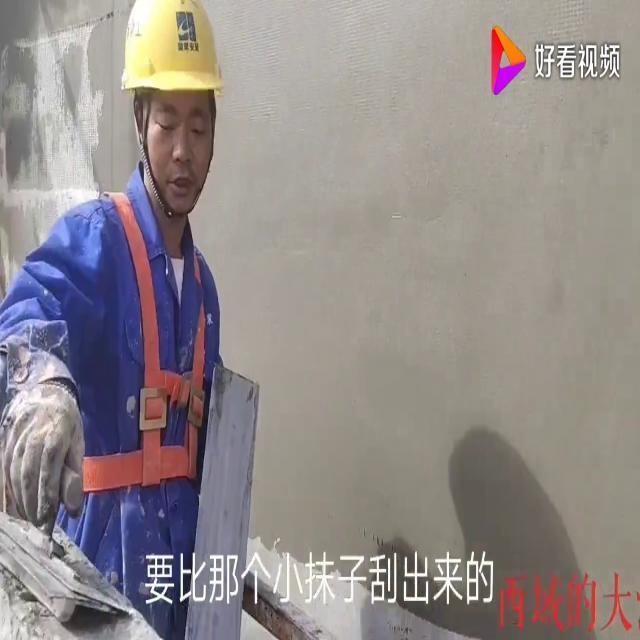Arnes_seguridad: (59, 175, 218, 509)
